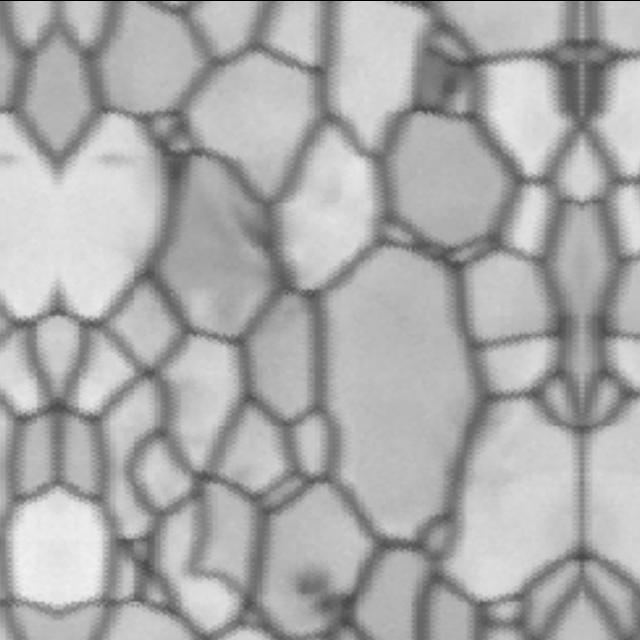good_void: (272, 547, 361, 633), (222, 188, 298, 272), (87, 142, 140, 177), (304, 173, 343, 211)
